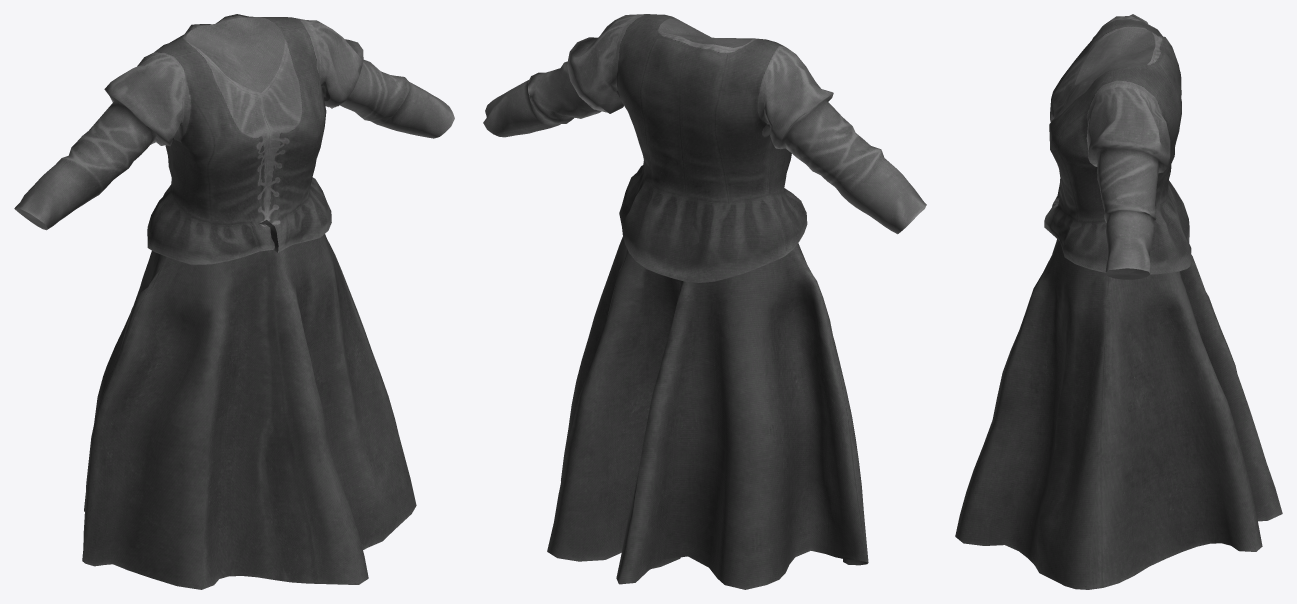
Rendered from sk_dwarf_dress_normal_j.fbx.
The picture shows the model from 3 angles, left to right: view 1: azimuth 30°, elevation 25°; view 2: azimuth 150°, elevation 25°; view 3: azimuth 270°, elevation 25°; orthographic projection. The views are drawn at different scales.
Visible parts, largest first — view 1: sk_dwarf_dress_normal_j.1, sk_dwarf_dress_normal_j.0; view 2: sk_dwarf_dress_normal_j.1, sk_dwarf_dress_normal_j.0; view 3: sk_dwarf_dress_normal_j.1, sk_dwarf_dress_normal_j.0.
Part boxes in pixels (x1=…): sk_dwarf_dress_normal_j.1: x1=82, y1=234, x2=416, y2=589; sk_dwarf_dress_normal_j.0: x1=14, y1=14, x2=454, y2=264; sk_dwarf_dress_normal_j.1: x1=547, y1=225, x2=868, y2=589; sk_dwarf_dress_normal_j.0: x1=483, y1=14, x2=926, y2=282; sk_dwarf_dress_normal_j.1: x1=955, y1=239, x2=1282, y2=589; sk_dwarf_dress_normal_j.0: x1=1044, y1=14, x2=1191, y2=279.
Bounding box in the file's own units: 1.19 × 0.8243 × 1.33.
Materials: 2 (2 with a texture image).
